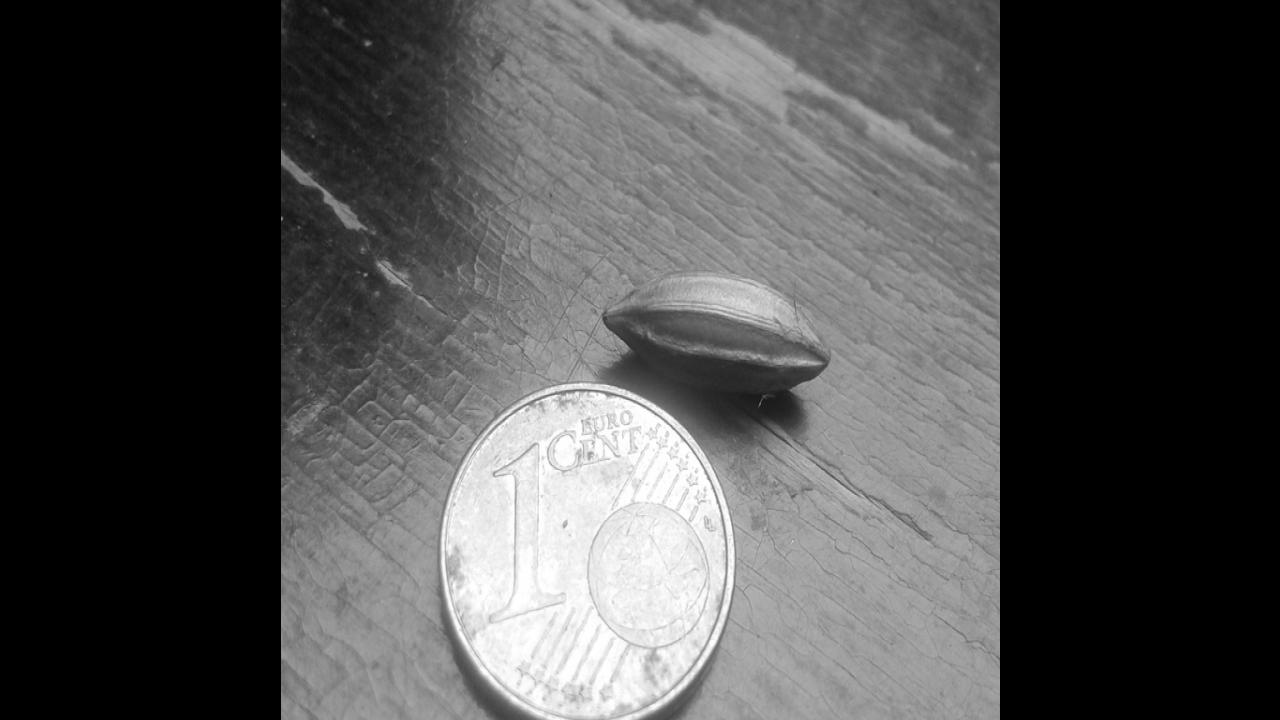coin: (435, 379, 737, 720)
